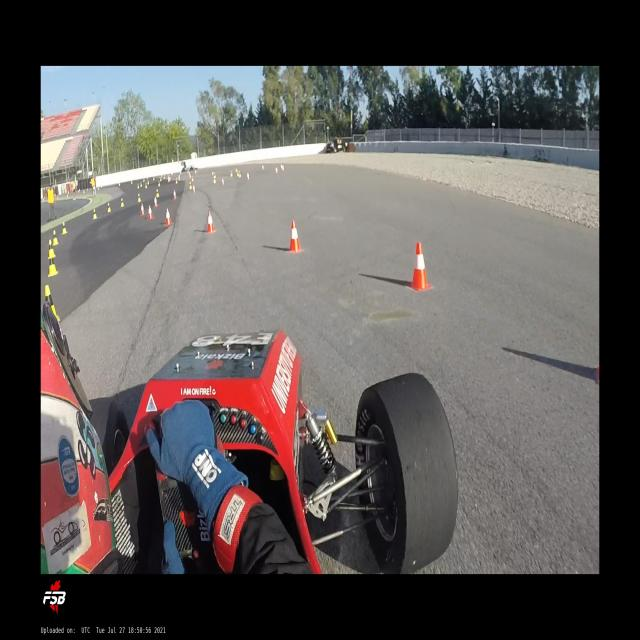orange_cone: (407, 242, 433, 292), (287, 220, 304, 253), (205, 210, 216, 233), (164, 207, 173, 226), (148, 204, 154, 220), (140, 202, 146, 216), (153, 197, 159, 208), (172, 190, 178, 200), (246, 171, 251, 181), (274, 166, 279, 174), (192, 184, 196, 193), (280, 163, 284, 172), (221, 178, 225, 186), (262, 164, 264, 170)
yellow_cone: (45, 284, 60, 322), (48, 252, 58, 276), (48, 238, 56, 258), (52, 230, 59, 245), (61, 222, 68, 234), (93, 208, 98, 219), (107, 202, 112, 212), (120, 198, 125, 207), (156, 188, 160, 197), (237, 170, 241, 178), (213, 175, 217, 183), (138, 194, 142, 202), (175, 177, 179, 184), (212, 171, 216, 177), (230, 170, 233, 178), (189, 180, 192, 188), (158, 180, 161, 186), (137, 183, 140, 188), (191, 177, 193, 183), (146, 182, 148, 188), (148, 180, 150, 184)
